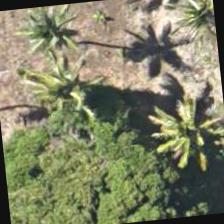Kelapa_Sawit: (11, 59, 110, 158), (144, 80, 223, 179), (158, 0, 219, 59)
